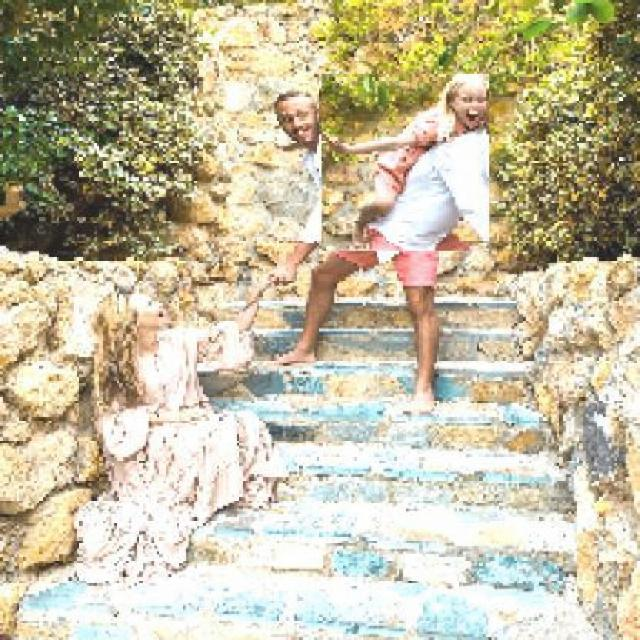child: (320, 74, 489, 252)
